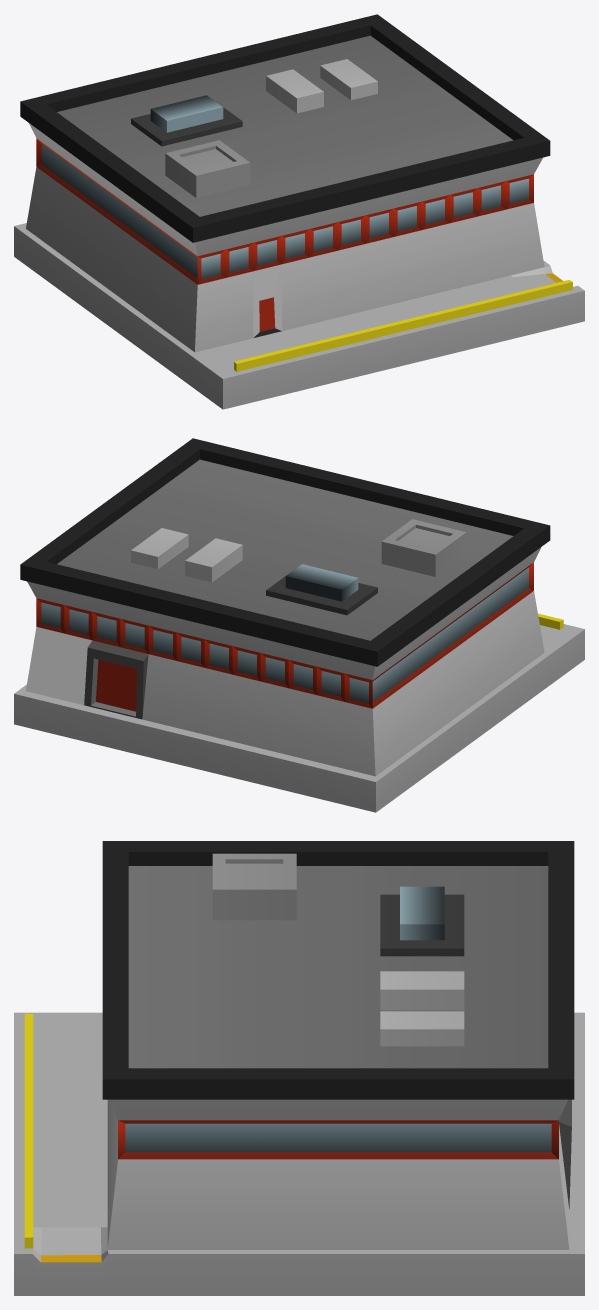
Rendered from Structure_Factory1.fbx.
3 views of the same model, one above another, from view 1: azimuth 30°, elevation 25°; view 2: azimuth 150°, elevation 25°; view 3: azimuth 270°, elevation 25° (orthographic). The views are drawn at different scales.
Visible parts, largest first — view 1: Building_Factory1; view 2: Building_Factory1; view 3: Building_Factory1.
Boxes of the visible parts, x1=… form: Building_Factory1: x1=14, y1=14, x2=584, y2=409; Building_Factory1: x1=14, y1=438, x2=584, y2=812; Building_Factory1: x1=14, y1=841, x2=584, y2=1295.
Size of the model in its own units: 400 by 179 by 400.
